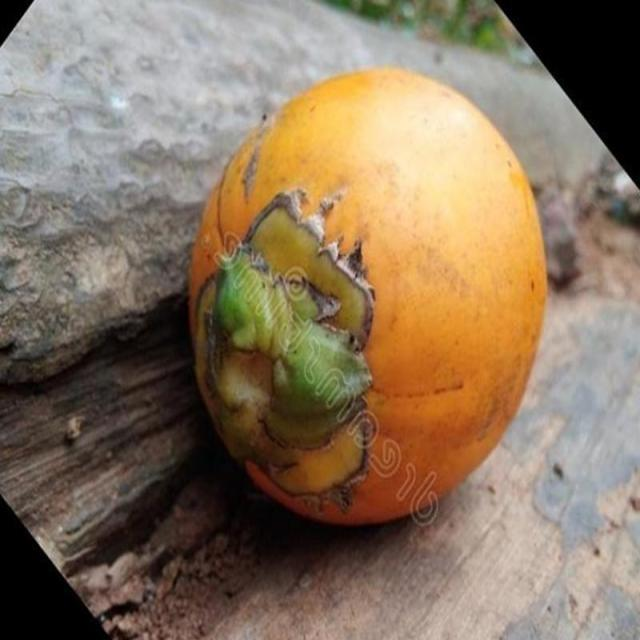good: (186, 68, 549, 530)
